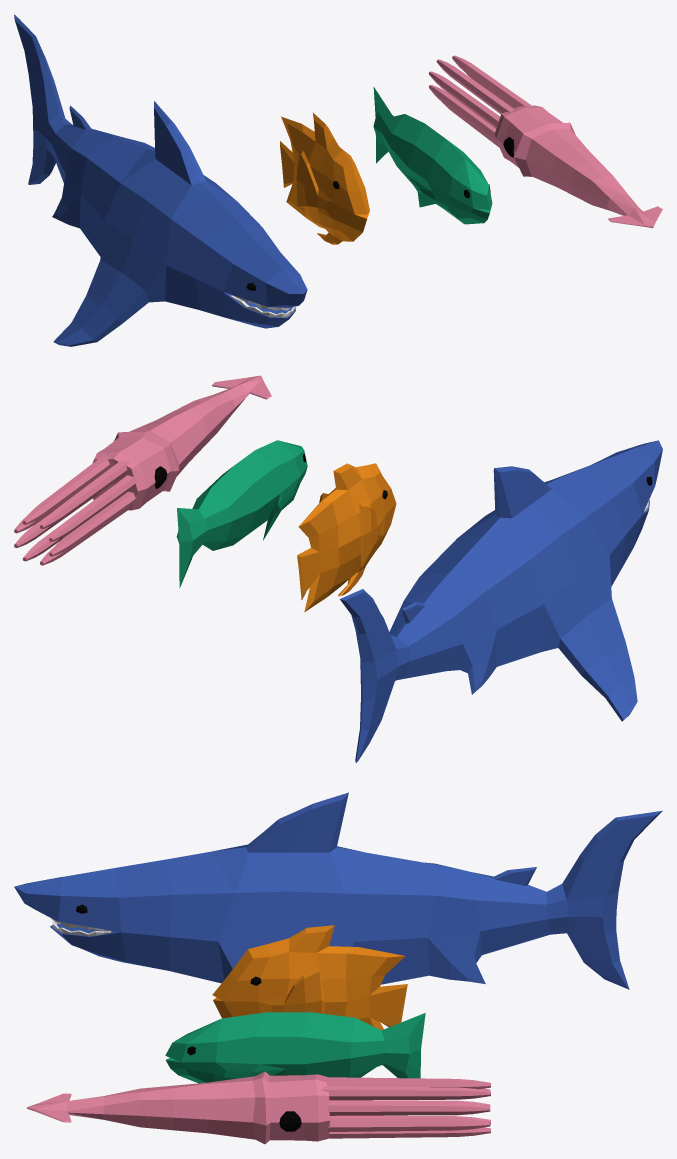
Rendered from all_fish.glb.
3 renders of one model, top to bottom at view 1: azimuth 30°, elevation 25°; view 2: azimuth 150°, elevation 25°; view 3: azimuth 270°, elevation 25°, orthographic. The views are drawn at different scales.
Parts seen in each view (by area): view 1: shark, squid, fish-1, fish-2; view 2: shark, squid, fish-1, fish-2; view 3: shark, squid, fish-2, fish-1.
Part boxes in pixels (x1,y1,x2,y2): shark: (14,14,307,346); squid: (428,55,662,227); fish-1: (280,112,369,244); fish-2: (373,87,492,224); shark: (340,440,662,762); squid: (14,375,271,565); fish-1: (297,463,396,612); fish-2: (176,440,307,588); shark: (14,792,662,989); squid: (27,1071,490,1144); fish-2: (165,1012,425,1083); fish-1: (212,925,407,1030).
Size of the model in its own units: 9.82 by 3.96 by 9.89.
